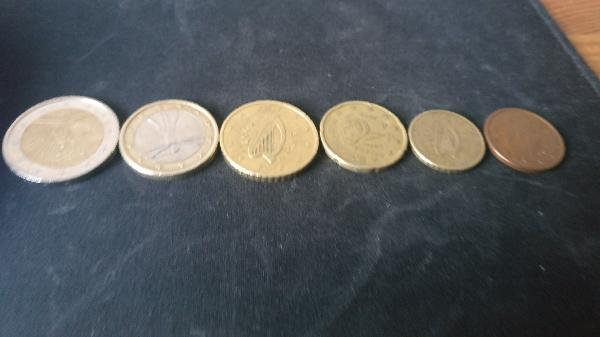Fifty Cent: (221, 97, 319, 183)
Five Cent: (484, 106, 568, 173)
One Euro: (119, 100, 219, 184)
Ten Cent: (409, 105, 487, 173)
Twenty Cent: (318, 99, 411, 170)
Two Euro: (5, 93, 118, 190)
